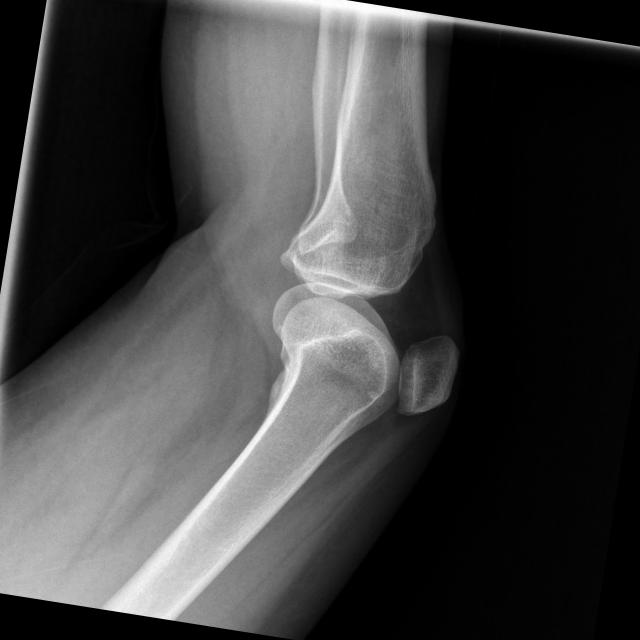Knee: (259, 212, 484, 428)
